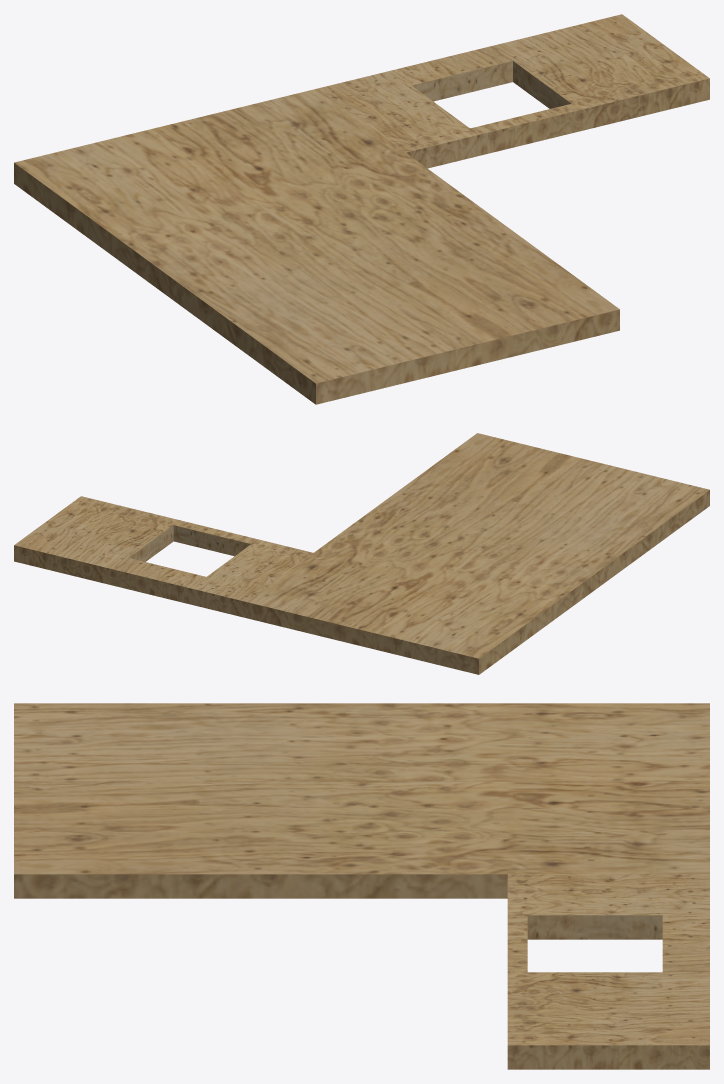
Rendered from tiber2.glb.
3 renders of one model, top to bottom at view 1: azimuth 30°, elevation 25°; view 2: azimuth 150°, elevation 25°; view 3: azimuth 270°, elevation 25°, orthographic. The views are drawn at different scales.
Parts seen in each view (by area): view 1: IfcSlab/encimera.011, IfcSlab/encimera.012; view 2: IfcSlab/encimera.011, IfcSlab/encimera.012; view 3: IfcSlab/encimera.011, IfcSlab/encimera.012.
Boxes of the visible parts, x1,y1,x2,y2 form: IfcSlab/encimera.011: [14, 88, 619, 404]; IfcSlab/encimera.012: [318, 14, 709, 168]; IfcSlab/encimera.011: [246, 433, 709, 674]; IfcSlab/encimera.012: [14, 496, 313, 617]; IfcSlab/encimera.011: [14, 703, 709, 898]; IfcSlab/encimera.012: [507, 874, 709, 1069].
Size of the model in its own units: 2.4 by 0.08 by 2.06.
Materials: 1 (1 with a texture image).
